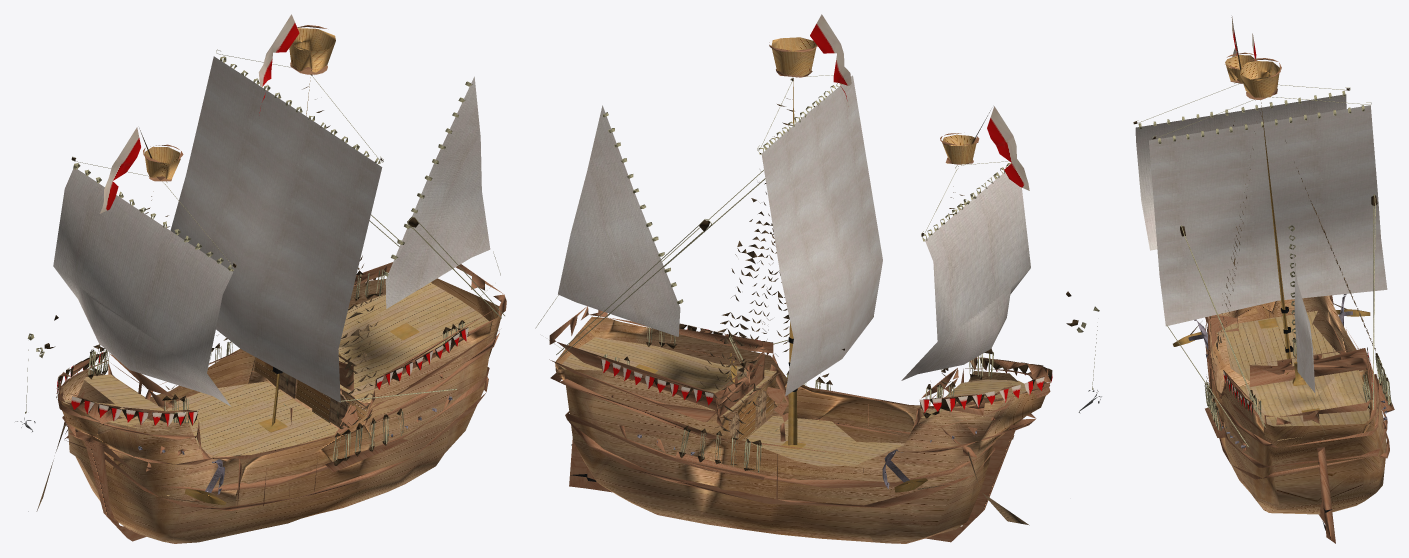
3 views of the same model, side by side, from view 1: azimuth 30°, elevation 25°; view 2: azimuth 150°, elevation 25°; view 3: azimuth 270°, elevation 25° (orthographic). The views are drawn at different scales.
Size of the model in its own units: 57.3 by 51.85 by 28.73.
19 materials, 17 textured.
